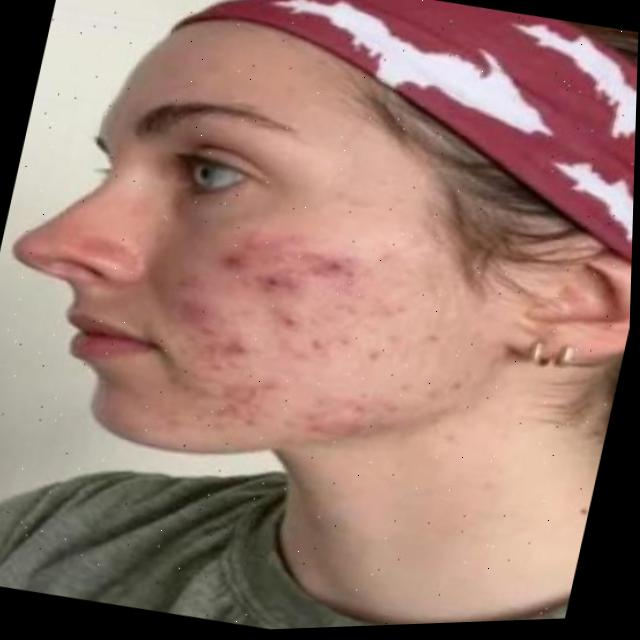Acne: (161, 195, 446, 488)
